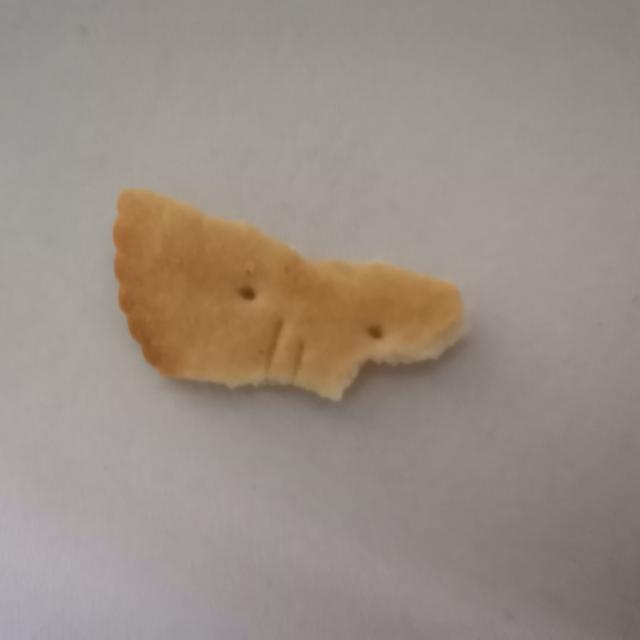Broken: (112, 186, 467, 402)
